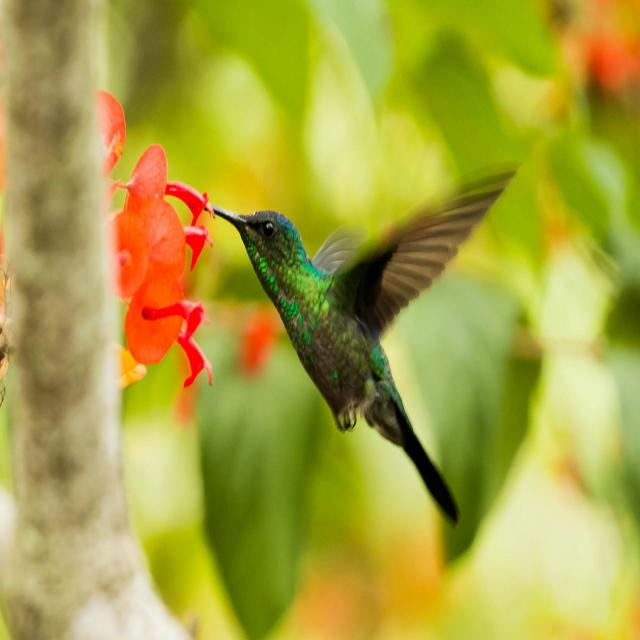Humming Bird: (203, 169, 517, 536)
